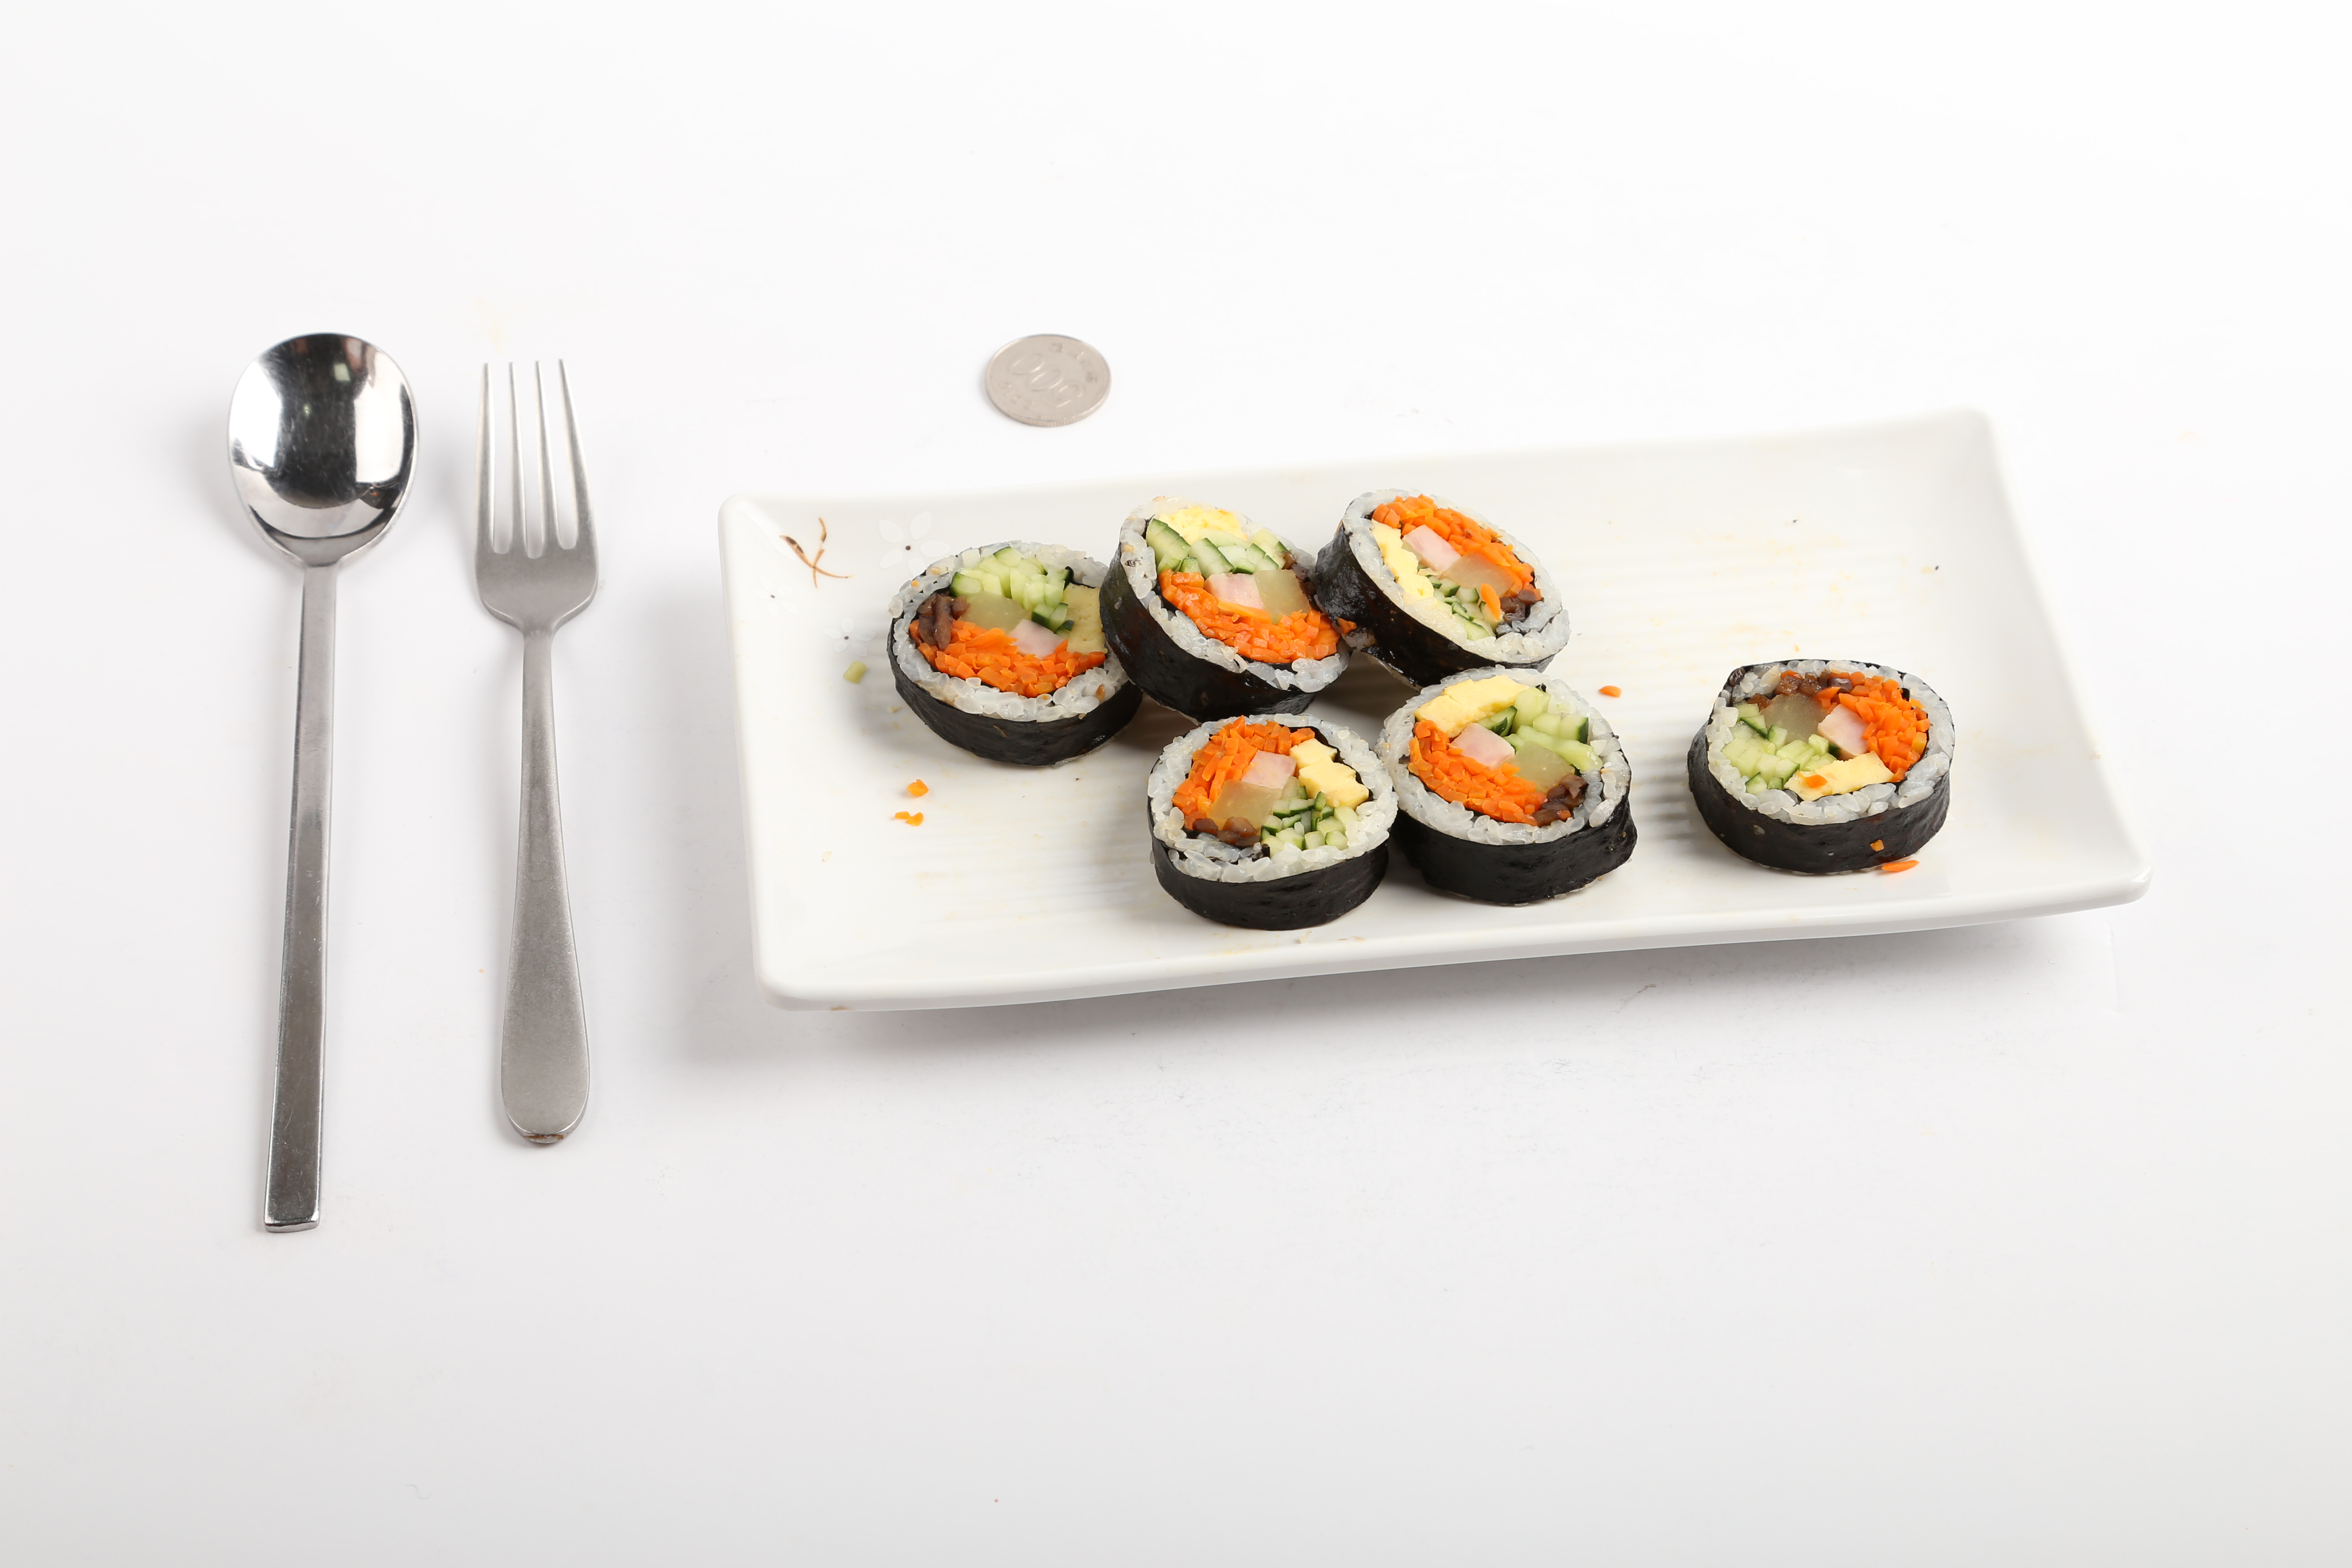dish: (710, 395, 2154, 1004)
ref_coin: (973, 322, 1125, 430)
ref_fork: (472, 353, 602, 696)
ref_spoon: (233, 327, 416, 651)
김밥: (878, 486, 1953, 933)
